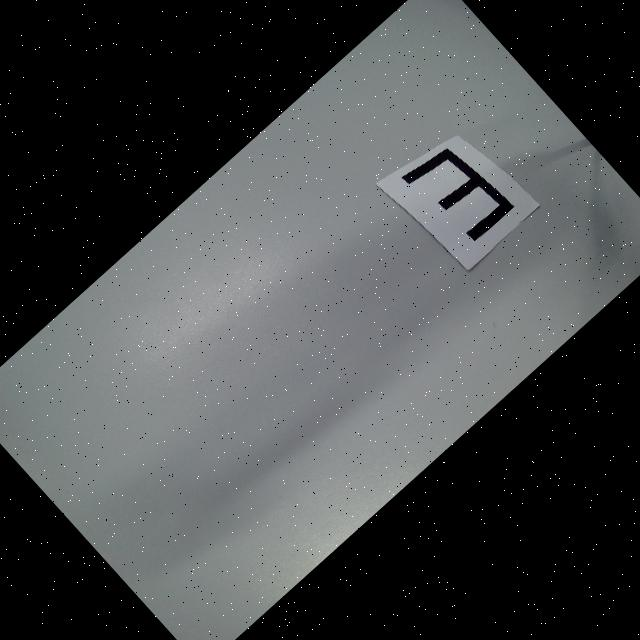FAKE: (399, 131, 516, 250)
